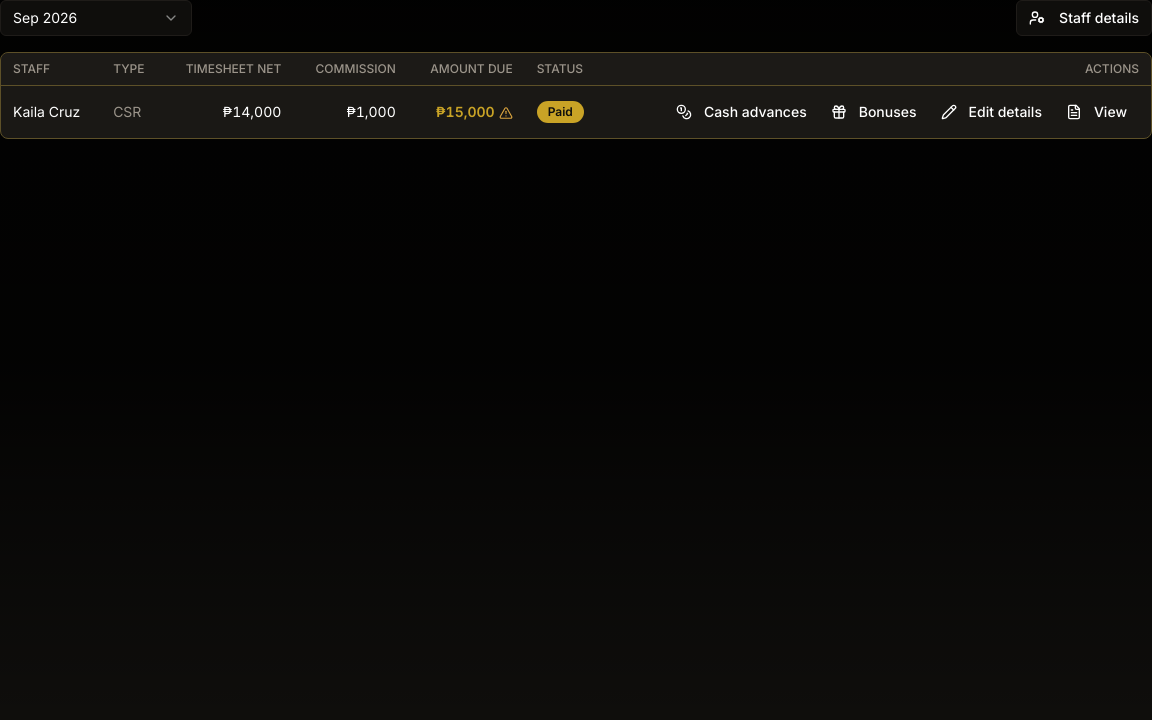
Test: Payslips tab — proof not on file + cash bond returned › a paid payslip without proof says so and offers no proof button
Click the button "View" at (1096, 112), box x1=1054 y1=94 x2=1139 y2=130
(page scrolled)
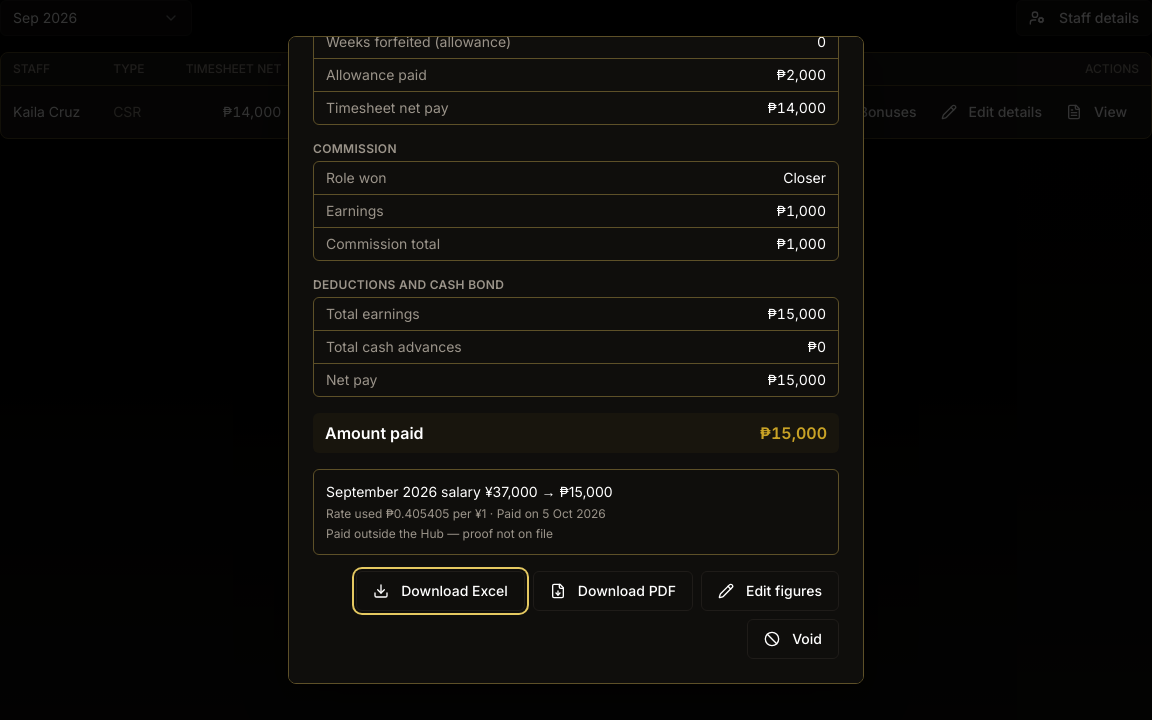
Expected: the text with test id "payslip-proof-not-on-file" reads "Paid outside the Hub — proof not on file", x1=326 y1=526 x2=553 y2=541
